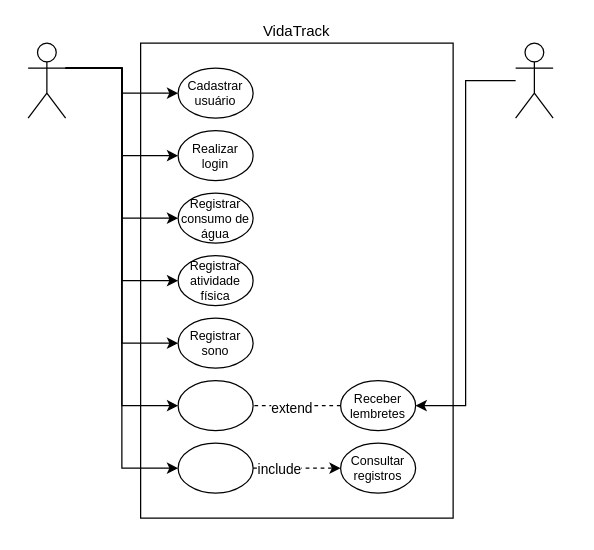
The diagram is 594 pixels wide and 550 high, and some of its shapes have lost their labels. Here are the shapes that lost their labels. From the top down, the centre of each, then its label:
At (x=46, y=80): "Usuário".
At (x=533, y=80): "Serviço de Notificação".
At (x=215, y=405): "Definir metas".
At (x=215, y=467): "Visualizar dashboard".
